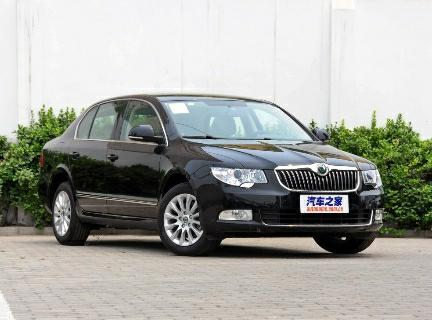car: (18, 91, 407, 263)
